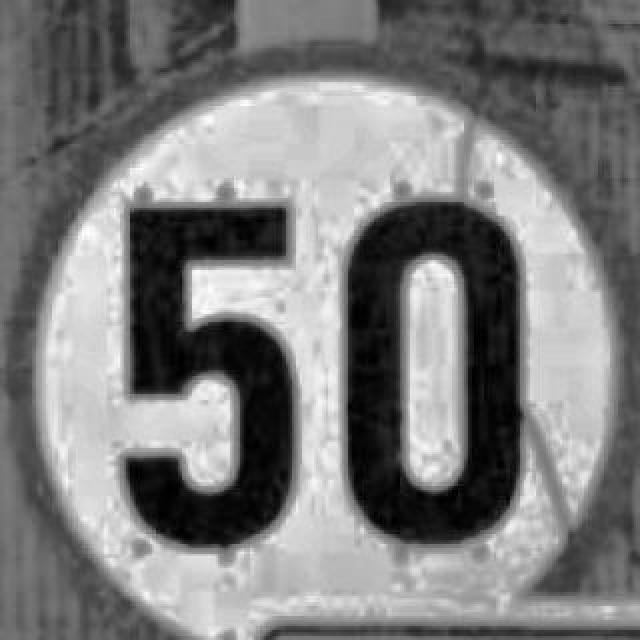50 kph: (2, 34, 634, 630)
